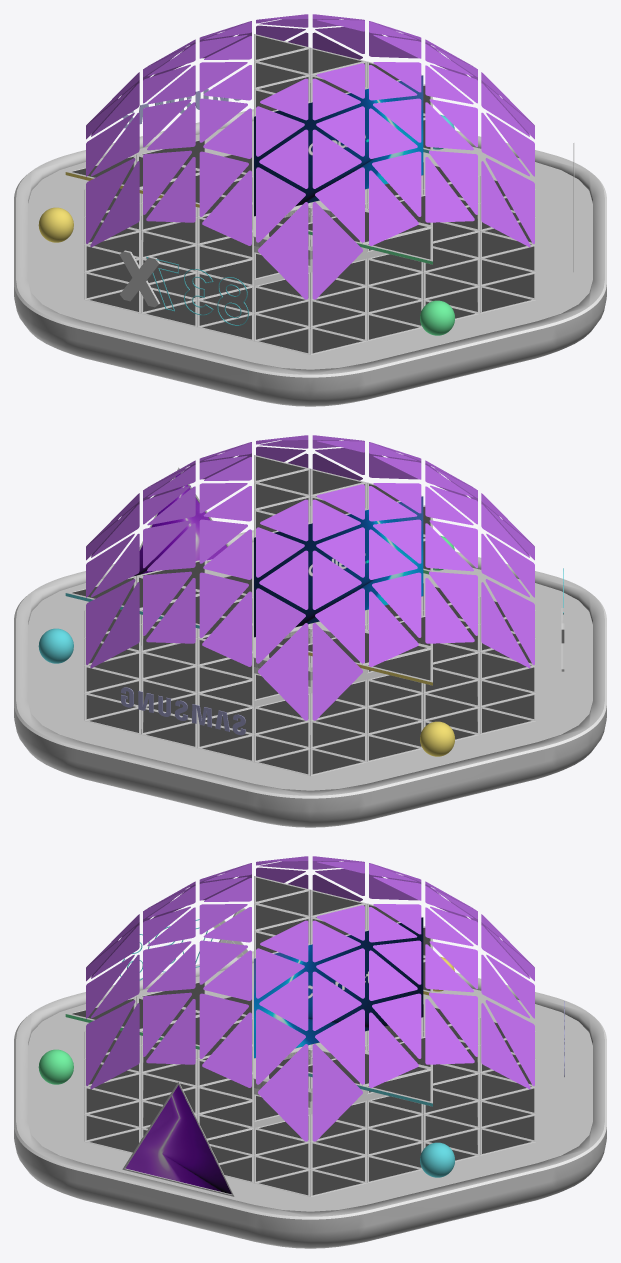
File: 837x-stage-decentraland-architecture.gltf
3 views of the same model, one above another, from view 1: azimuth 30°, elevation 25°; view 2: azimuth 150°, elevation 25°; view 3: azimuth 270°, elevation 25° (orthographic).
Visible parts, largest first — view 1: _gltfNode_33, _gltfNode_47, _gltfNode_23, _gltfNode_45, _gltfNode_49, _gltfNode_25, _gltfNode_43, _gltfNode_2, _gltfNode_4, _gltfNode_27; view 2: _gltfNode_33, _gltfNode_47, _gltfNode_23, _gltfNode_45, _gltfNode_53, _gltfNode_25, _gltfNode_43, _gltfNode_35, _gltfNode_39, _gltfNode_0, _gltfNode_2; view 3: _gltfNode_33, _gltfNode_47, _gltfNode_23, _gltfNode_45, _gltfNode_39, _gltfNode_51, _gltfNode_25, _gltfNode_43, _gltfNode_4, _gltfNode_0.
Boxes of the visible parts, <box> form: _gltfNode_33: <box>86,14,534,299</box>; _gltfNode_47: <box>14,34,606,406</box>; _gltfNode_23: <box>72,35,534,353</box>; _gltfNode_45: <box>84,148,536,354</box>; _gltfNode_49: <box>254,75,423,216</box>; _gltfNode_25: <box>14,175,606,377</box>; _gltfNode_43: <box>197,176,479,313</box>; _gltfNode_2: <box>38,207,73,242</box>; _gltfNode_4: <box>420,300,455,335</box>; _gltfNode_27: <box>146,149,429,325</box>; _gltfNode_33: <box>86,435,534,720</box>; _gltfNode_47: <box>14,455,606,827</box>; _gltfNode_23: <box>72,456,534,774</box>; _gltfNode_45: <box>84,569,536,775</box>; _gltfNode_53: <box>254,496,423,637</box>; _gltfNode_25: <box>14,473,606,798</box>; _gltfNode_43: <box>197,597,479,734</box>; _gltfNode_35: <box>121,687,245,735</box>; _gltfNode_39: <box>133,473,226,576</box>; _gltfNode_0: <box>38,628,73,663</box>; _gltfNode_2: <box>420,721,455,756</box>; _gltfNode_33: <box>86,856,534,1141</box>; _gltfNode_47: <box>14,876,606,1248</box>; _gltfNode_23: <box>72,877,534,1195</box>; _gltfNode_45: <box>84,990,536,1196</box>; _gltfNode_39: <box>125,1085,231,1194</box>; _gltfNode_51: <box>254,917,423,1058</box>; _gltfNode_25: <box>14,908,606,1219</box>; _gltfNode_43: <box>197,1018,479,1155</box>; _gltfNode_4: <box>38,1049,73,1084</box>; _gltfNode_0: <box>420,1142,455,1177</box>.
Size of the model in its own units: 45.88 by 18.12 by 42.
Materials: 13 (7 with a texture image).
